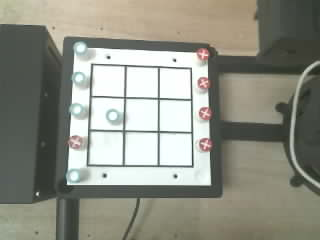blue circle: (69, 103, 85, 117), (106, 109, 121, 123), (72, 72, 86, 86), (66, 169, 80, 182), (73, 42, 87, 54)
board: (67, 42, 211, 185)
cells: (89, 132, 122, 164), (125, 133, 157, 165), (90, 98, 123, 129), (160, 134, 191, 165), (126, 99, 157, 130), (160, 100, 191, 131), (92, 66, 124, 96), (160, 68, 190, 98), (127, 67, 157, 97)
grid: (87, 64, 193, 167)
red cross: (68, 135, 83, 149), (198, 77, 211, 90), (199, 138, 212, 151), (196, 48, 209, 60), (199, 107, 212, 119)
